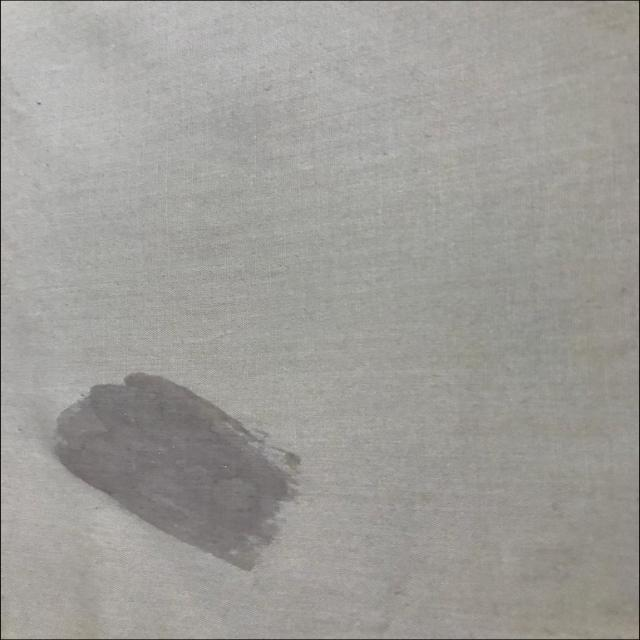Stain: (54, 374, 300, 571)
